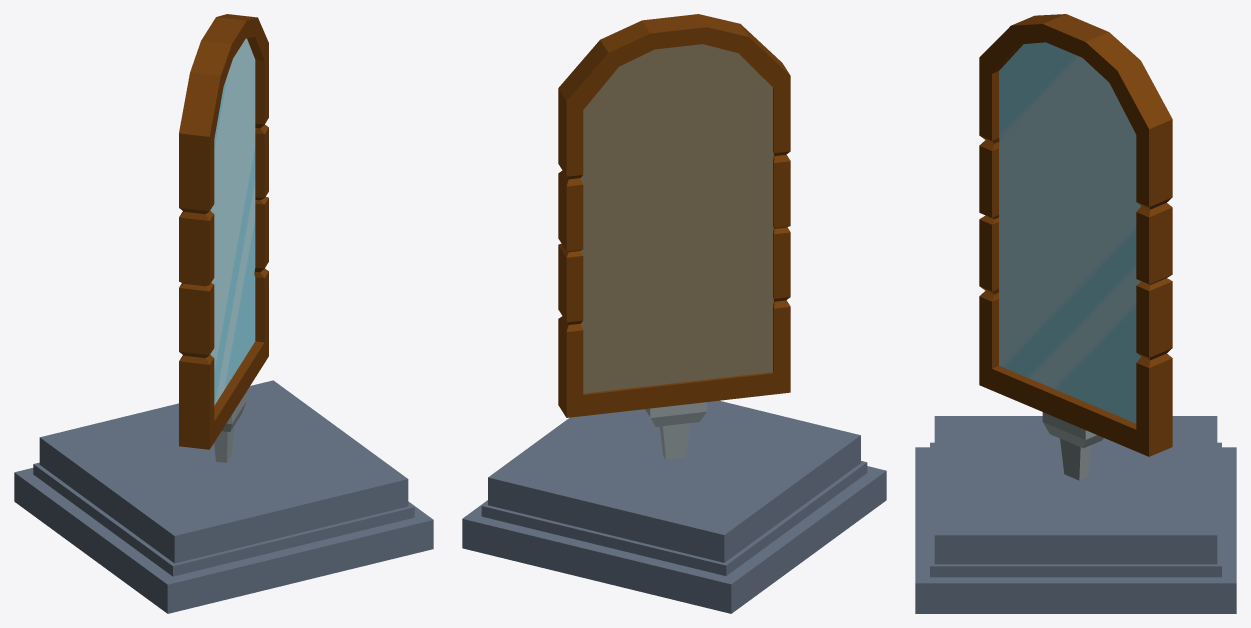
The model's file is StaticMirror.fbx.
3 views of the same model, side by side, from view 1: azimuth 30°, elevation 25°; view 2: azimuth 150°, elevation 25°; view 3: azimuth 270°, elevation 25° (orthographic). The views are drawn at different scales.
Visible parts, largest first — view 1: Cube, Cube.001; view 2: Cube.001, Cube; view 3: Cube.001, Cube.
Part boxes in pixels (x1,y1,x2,y2): Cube: (14, 380, 433, 613); Cube.001: (179, 14, 268, 462); Cube.001: (558, 14, 790, 459); Cube: (462, 400, 886, 613); Cube.001: (979, 14, 1172, 480); Cube: (915, 416, 1236, 613).
Size of the model in its own units: 143 by 254 by 143.
1 material, 1 textured.
